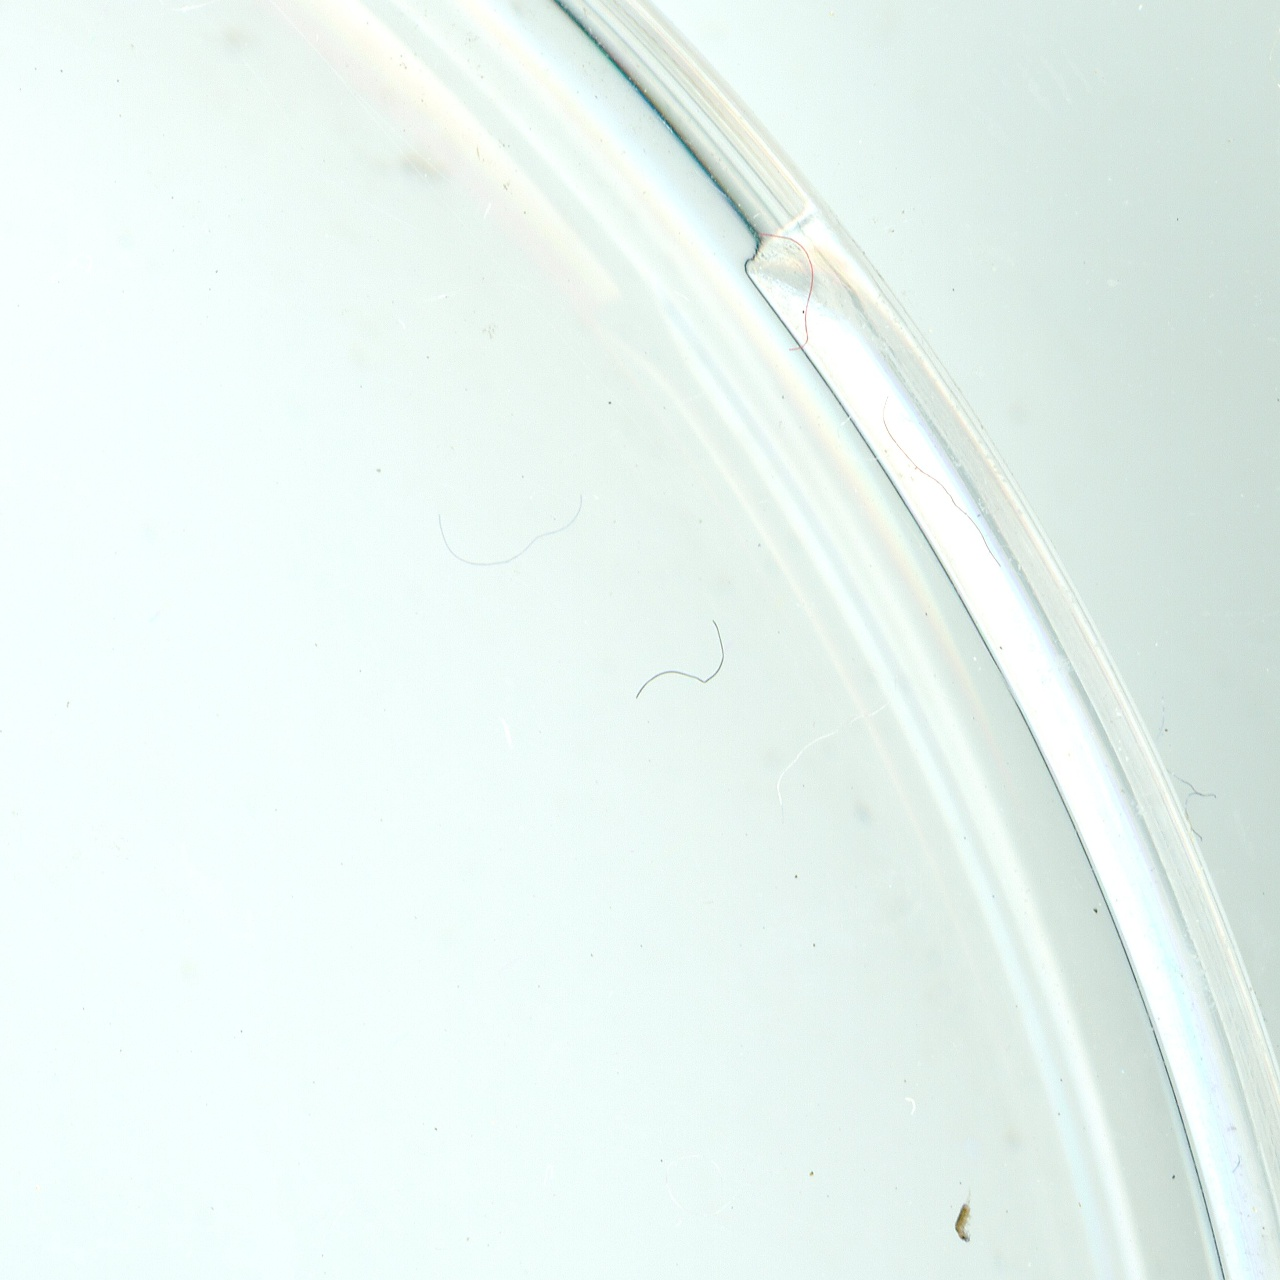arthropod: (947, 1177, 981, 1257)
